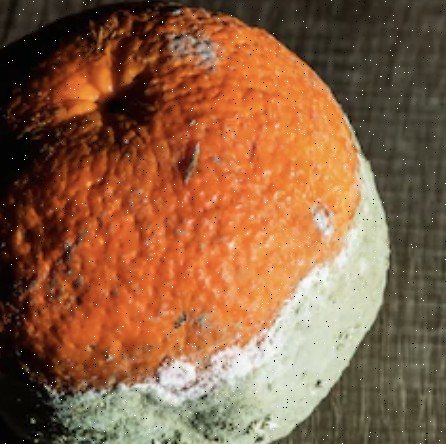rotten_orange: (16, 9, 390, 444)
